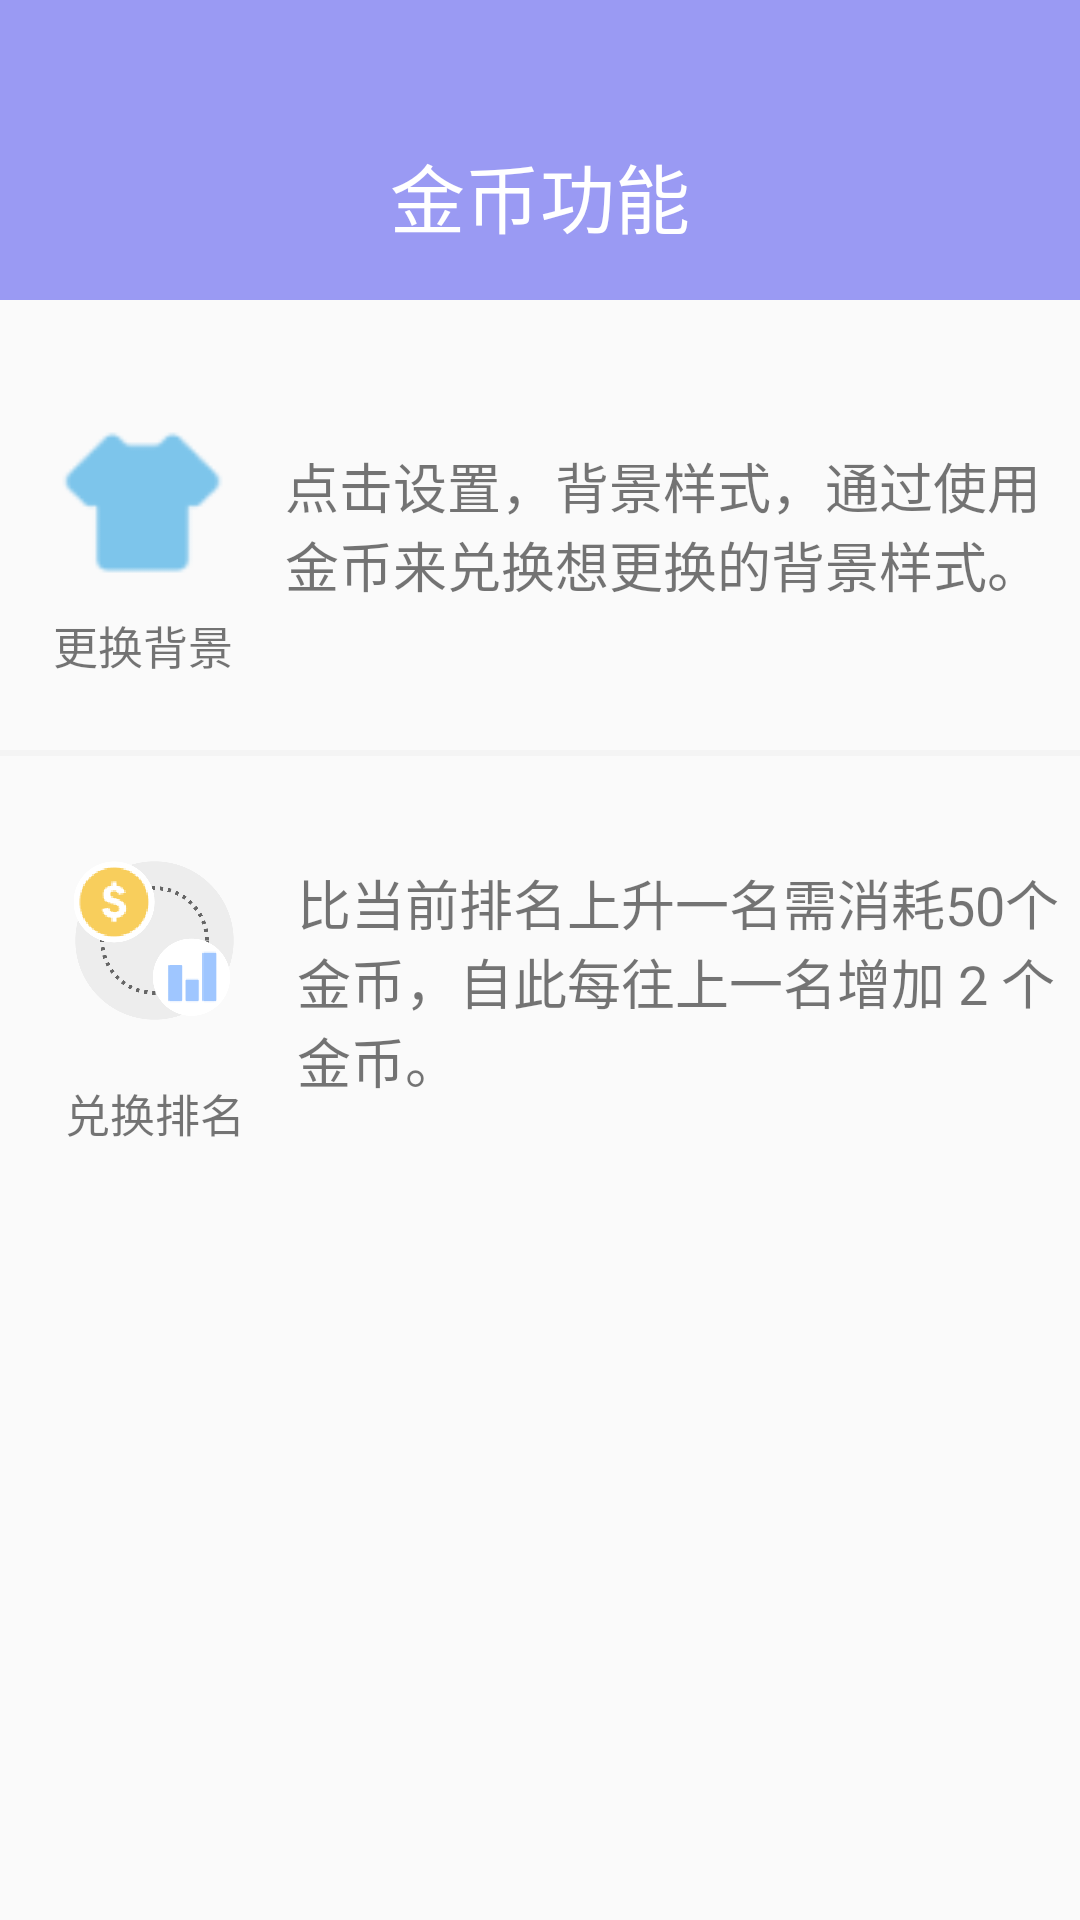

Icon click points for this 1080*1920 phone screenshot, format [x,y]:
coin rank: [148,934]
theme: [142,502]
